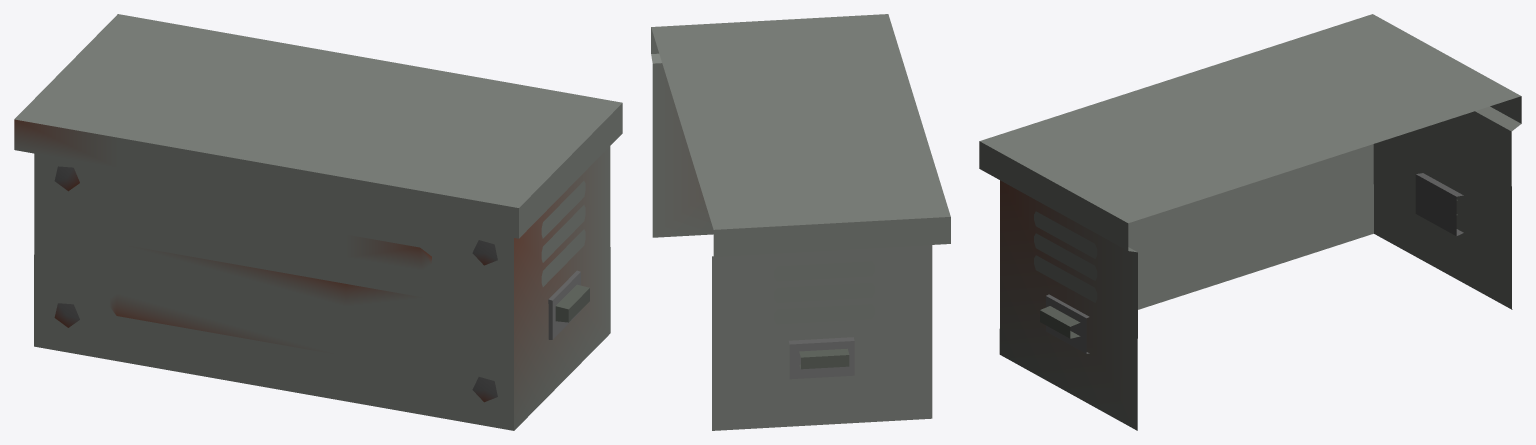
File: MSH_QuestObject_box_02.fbx
3 views of the same model, side by side, from view 1: azimuth 30°, elevation 25°; view 2: azimuth 150°, elevation 25°; view 3: azimuth 270°, elevation 25° (orthographic). The views are drawn at different scales.
Visible parts, largest first — view 1: MSH_QuestObject_box_02; view 2: MSH_QuestObject_box_02; view 3: MSH_QuestObject_box_02.
Boxes of the visible parts, x1,y1,x2,y2 form: MSH_QuestObject_box_02: (14, 14, 622, 430); MSH_QuestObject_box_02: (651, 14, 950, 430); MSH_QuestObject_box_02: (979, 14, 1521, 430).
Bounding box in the file's own units: 1.22 × 0.5711 × 1.33.
